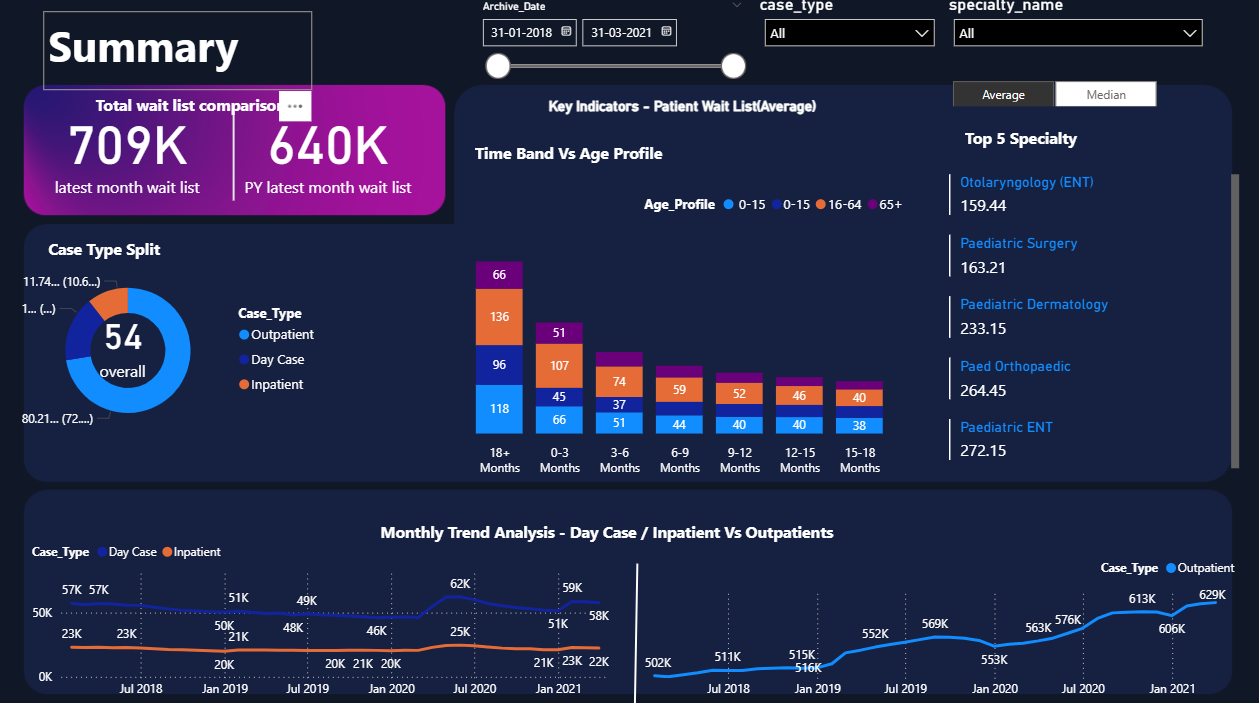

Layout of this report page (visuals, bound fields, positions):
{"tool":"powerbi","page":{"name":"Summary","canvas":[1280,720],"ordinal":0},"visuals":[{"type":"card","title":"Total wait list comparison","fields":{"Values":["All_Data.latest month wait list"]},"box":[24,96,216,120],"z":0},{"type":"card","fields":{"Values":["All_Data.PY latest month wait list"]},"box":[216,96,240,120],"z":1000},{"type":"slicer","fields":{"Values":["Calculation Method.Calc Method"]},"box":[944,80,256,32],"z":2000},{"type":"donutChart","fields":{"Category":["All_Data.Case_Type"],"Y":["All_Data.Avg/Median wait list"]},"box":[16,208,320,304],"z":3000},{"type":"columnChart","fields":{"Y":["All_Data.Avg/Median wait list"],"Category":["All_Data.Time_Bands"],"Series":["All_Data.Age_Profile"]},"box":[448,192,480,304],"z":4000},{"type":"multiRowCard","fields":{"Values":["All_Data.Speciality_name","All_Data.Avg/Median wait list"]},"box":[960,176,304,320],"z":5000},{"type":"lineChart","fields":{"Category":["All_Data.Archive_Date"],"Y":["Sum(All_Data.Total)"],"Series":["All_Data.Case_Type"]},"box":[32,544,608,176],"z":6000},{"type":"slicer","fields":{"Values":["All_Data.Archive_Date"]},"box":[480,0,288,96],"z":7000},{"type":"slicer","title":"case_type","fields":{"Values":["All_Data.Case_Type"]},"box":[768,0,192,80],"z":8000},{"type":"slicer","title":"specialty_name","fields":{"Values":["All_Data.Specialty_Name"]},"box":[960,0,272,80],"z":9000},{"type":"card","fields":{"Values":["All_Data.Avg/Median wait list"]},"box":[0,240,256,224],"z":10000},{"type":"shape","box":[80,112,320,96],"z":11000},{"type":"textbox","box":[96,96,304,32],"z":12000},{"type":"lineChart","fields":{"Category":["All_Data.Archive_Date"],"Y":["Sum(All_Data.Total)"],"Series":["All_Data.Case_Type"]},"box":[640,560,624,160],"z":13000},{"type":"textbox","box":[48,240,192,48],"z":14000},{"type":"textbox","box":[480,144,352,32],"z":15000},{"type":"textbox","box":[976,128,160,32],"z":16000},{"type":"shape","box":[496,576,304,144],"z":17000},{"type":"textbox","box":[384,528,512,32],"z":18000},{"type":"textbox","box":[48,16,272,80],"z":19000},{"type":"card","fields":{"Values":["All_Data.Dynamic Title"]},"box":[455.7,24.8,478.8,176.7],"z":20000},{"type":"card","fields":{"Values":["All_Data.NoDataLeft"]},"box":[144,576,224,96],"z":21000},{"type":"card","fields":{"Values":["All_Data.NoDaRight"]},"box":[784,512,272,160],"z":22000}]}

Visuals, with their boxes in screenshot pixels (x1, y1, x2, y2), scaled from the page's 1280x720 canvas onto the 1259x703 screenshot:
"Total wait list comparison" card: Rect(24, 94, 236, 211)
card - All_Data.PY latest month wait list: Rect(212, 94, 449, 211)
slicer - Calculation Method.Calc Method: Rect(929, 78, 1180, 109)
donutChart - All_Data.Case_Type x All_Data.Avg/Median wait list: Rect(16, 203, 330, 500)
columnChart - All_Data.Avg/Median wait list x All_Data.Time_Bands: Rect(441, 187, 913, 484)
multiRowCard - All_Data.Speciality_name x All_Data.Avg/Median wait list: Rect(944, 172, 1243, 484)
lineChart - All_Data.Archive_Date x Sum(All_Data.Total): Rect(31, 531, 630, 702)
slicer - All_Data.Archive_Date: Rect(472, 0, 755, 94)
"case_type" slicer: Rect(755, 0, 944, 78)
"specialty_name" slicer: Rect(944, 0, 1212, 78)
card - All_Data.Avg/Median wait list: Rect(0, 234, 252, 453)
shape: Rect(79, 109, 393, 203)
textbox: Rect(94, 94, 393, 125)
lineChart - All_Data.Archive_Date x Sum(All_Data.Total): Rect(630, 547, 1243, 702)
textbox: Rect(47, 234, 236, 281)
textbox: Rect(472, 141, 818, 172)
textbox: Rect(960, 125, 1117, 156)
shape: Rect(488, 562, 787, 702)
textbox: Rect(378, 516, 881, 547)
textbox: Rect(47, 16, 315, 94)
card - All_Data.Dynamic Title: Rect(448, 24, 919, 197)
card - All_Data.NoDataLeft: Rect(142, 562, 362, 656)
card - All_Data.NoDaRight: Rect(771, 500, 1039, 656)
